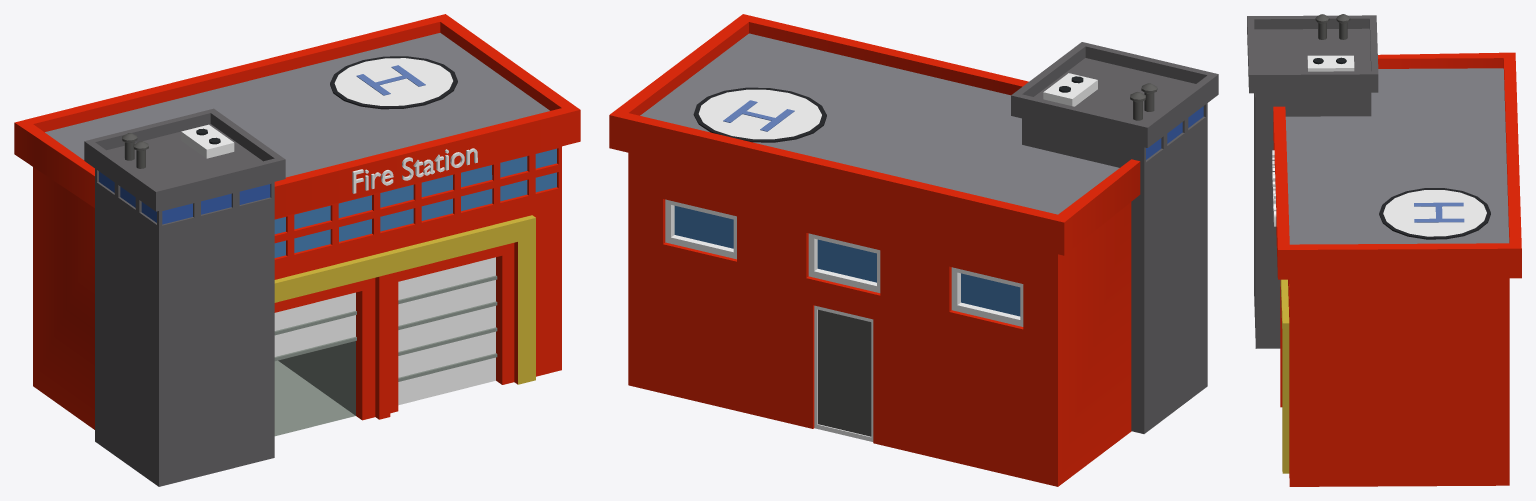
File: fireStation.glb
3 renders of one model, left to right at view 1: azimuth 30°, elevation 25°; view 2: azimuth 150°, elevation 25°; view 3: azimuth 270°, elevation 25°, orthographic. The views are drawn at different scales.
Parts seen in each view (by area): view 1: Fire_Station_1_Color_Palette_0; view 2: Fire_Station_1_Color_Palette_0; view 3: Fire_Station_1_Color_Palette_0.
Part boxes in pixels (<box>): Fire_Station_1_Color_Palette_0: <box>14,14,580,486</box>; Fire_Station_1_Color_Palette_0: <box>609,14,1218,486</box>; Fire_Station_1_Color_Palette_0: <box>1247,14,1521,486</box>.
Bounding box in the file's own units: 3.44 × 2.32 × 2.
1 material, 1 textured.
